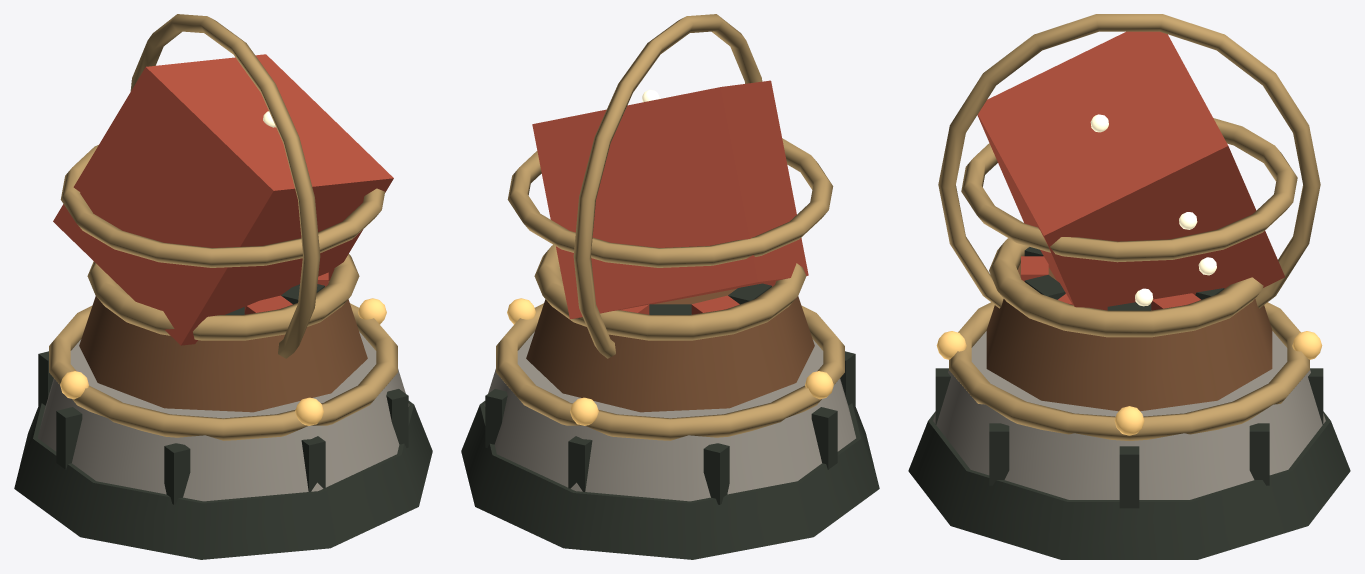
Rendered from tower_gamble_gambleFate_ultimate.glb.
3 views of the same model, side by side, from view 1: azimuth 30°, elevation 25°; view 2: azimuth 150°, elevation 25°; view 3: azimuth 270°, elevation 25° (orthographic). The views are drawn at different scales.
Parts seen in each view (by area): view 1: die_29, foot_0, stone_1, table_15, rim_2, high_roller_36, fate_ring_35, roulette_rim_16, mortar_6, mortar_7, mortar_5, mortar_4 (+5 smaller); view 2: die_29, foot_0, stone_1, table_15, rim_2, fate_ring_35, high_roller_36, roulette_rim_16, mortar_8, mortar_7, mortar_9, mortar_10 (+6 smaller); view 3: die_29, foot_0, stone_1, table_15, high_roller_36, rim_2, fate_ring_35, roulette_rim_16, mortar_3, mortar_4, mortar_10, rivet_11 (+6 smaller).
Boxes of the visible parts, <box> form: die_29: <box>53,54,393,345</box>; foot_0: <box>14,401,432,559</box>; stone_1: <box>38,331,409,501</box>; table_15: <box>79,281,367,412</box>; rim_2: <box>49,303,397,440</box>; high_roller_36: <box>130,14,320,358</box>; fate_ring_35: <box>60,145,384,267</box>; roulette_rim_16: <box>87,254,359,340</box>; mortar_6: <box>164,443,190,504</box>; mortar_7: <box>56,407,82,469</box>; mortar_5: <box>301,436,325,491</box>; mortar_4: <box>386,389,408,447</box>; die_29: <box>532,80,808,319</box>; foot_0: <box>461,401,879,559</box>; stone_1: <box>484,331,855,501</box>; table_15: <box>526,281,814,412</box>; rim_2: <box>496,303,844,440</box>; fate_ring_35: <box>507,138,833,267</box>; high_roller_36: <box>573,14,762,358</box>; roulette_rim_16: <box>534,244,806,340</box>; mortar_8: <box>703,443,729,504</box>; mortar_7: <box>811,407,837,469</box>; mortar_9: <box>568,436,592,491</box>; mortar_10: <box>485,389,507,447</box>; die_29: <box>977,31,1284,310</box>; foot_0: <box>908,411,1350,559</box>; stone_1: <box>933,331,1325,499</box>; table_15: <box>986,263,1272,411</box>; high_roller_36: <box>938,14,1320,308</box>; rim_2: <box>949,302,1309,440</box>; fate_ring_35: <box>961,118,1297,262</box>; roulette_rim_16: <box>989,238,1263,337</box>; mortar_3: <box>1119,446,1139,508</box>; mortar_4: <box>989,423,1009,485</box>; mortar_10: <box>1249,423,1269,485</box>; rivet_11: <box>1114,406,1144,435</box>.
Size of the model in its own units: 0.5326 by 0.6383 by 0.56.
